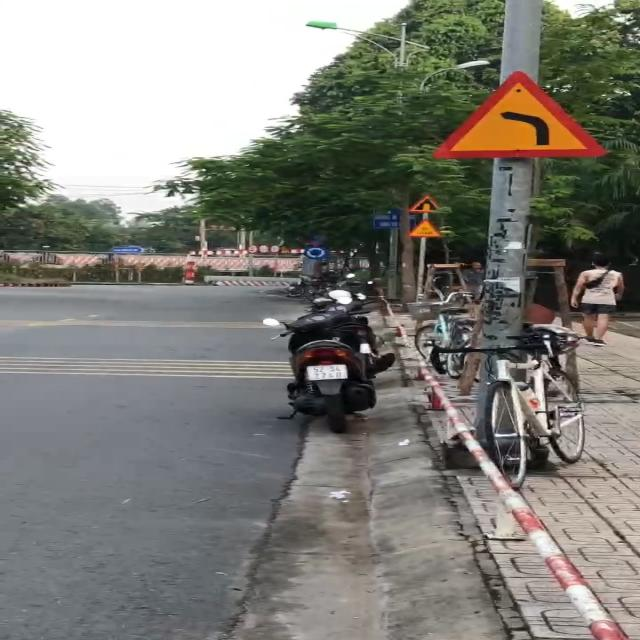Bien bao cho ngoat nguy hiem: (430, 68, 609, 163)
